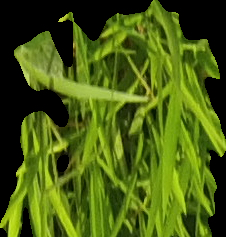grass: (1, 1, 225, 236)
